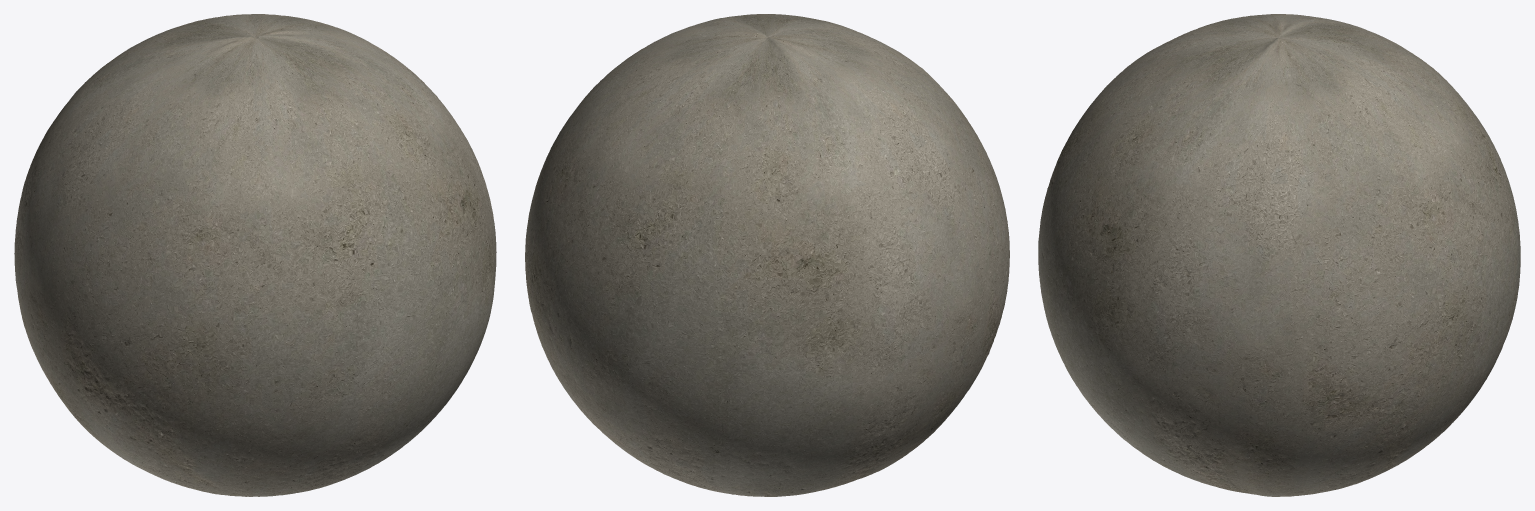
Rendered from white-plaster-3d-model-transformed.glb.
3 renders of one model, left to right at view 1: azimuth 30°, elevation 25°; view 2: azimuth 150°, elevation 25°; view 3: azimuth 270°, elevation 25°, orthographic.
Visible parts, largest first — view 1: sphere_gltf; view 2: sphere_gltf; view 3: sphere_gltf.
Boxes of the visible parts, x1,y1,x2,y2 form: sphere_gltf: [14, 14, 496, 496]; sphere_gltf: [525, 14, 1009, 496]; sphere_gltf: [1038, 14, 1520, 496].
Size of the model in its own units: 0.9989 by 1 by 1.
Materials: 1 (1 with a texture image).
